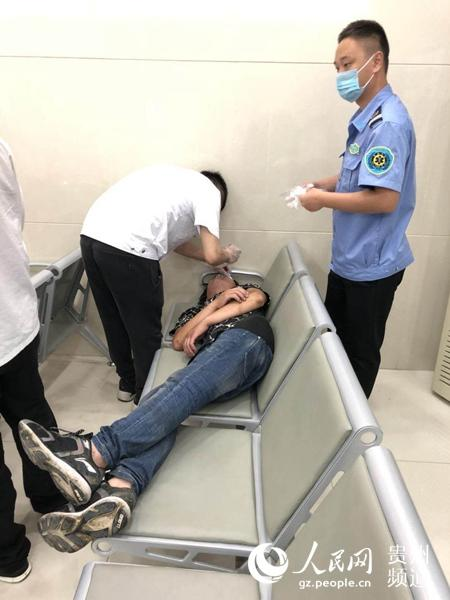bending: (75, 165, 241, 403)
down: (22, 254, 277, 564)
up: (295, 18, 429, 417)
